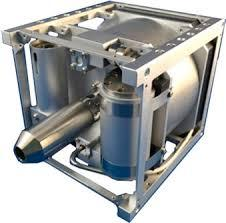thruster: (13, 121, 62, 164)
